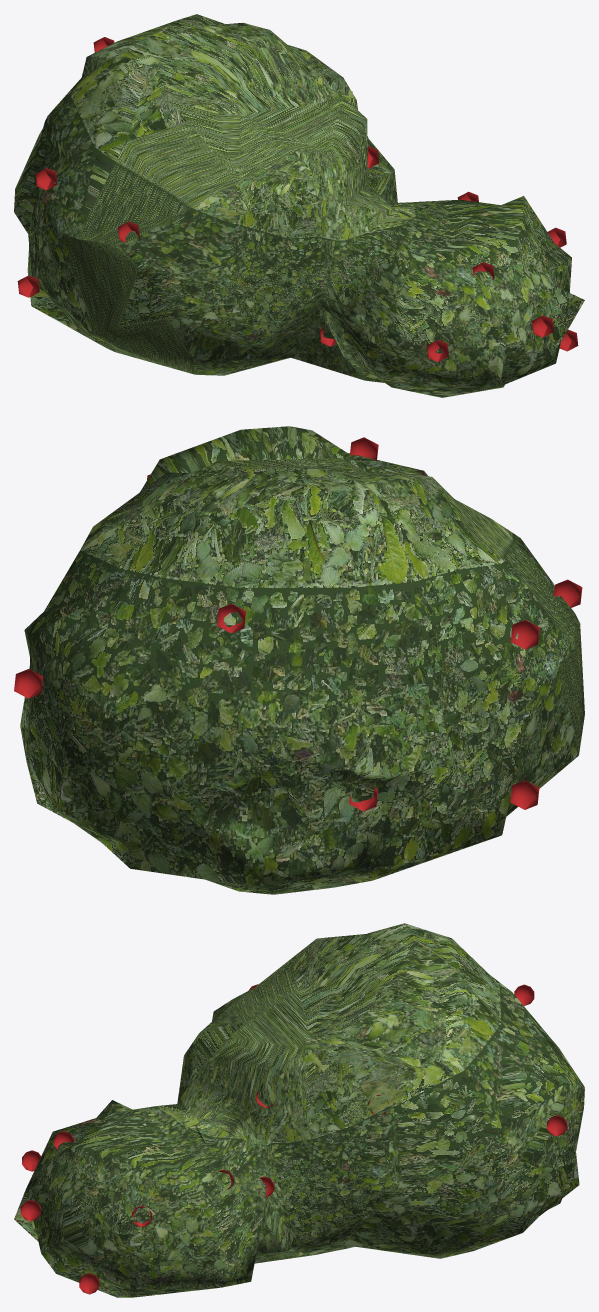
The model's file is arbusto_bagas.glb.
The picture shows the model from 3 angles, top to bottom: view 1: azimuth 30°, elevation 25°; view 2: azimuth 150°, elevation 25°; view 3: azimuth 270°, elevation 25°; orthographic projection. The views are drawn at different scales.
Visible parts, largest first — view 1: arbusto_bagas; view 2: arbusto_bagas; view 3: arbusto_bagas.
Part boxes in pixels (bbox=[...]): arbusto_bagas: bbox=[14, 14, 584, 397]; arbusto_bagas: bbox=[14, 426, 584, 894]; arbusto_bagas: bbox=[14, 923, 584, 1297].
Bounding box in the file's own units: 15.62 × 10 × 19.13.
Materials: 2 (1 with a texture image).
